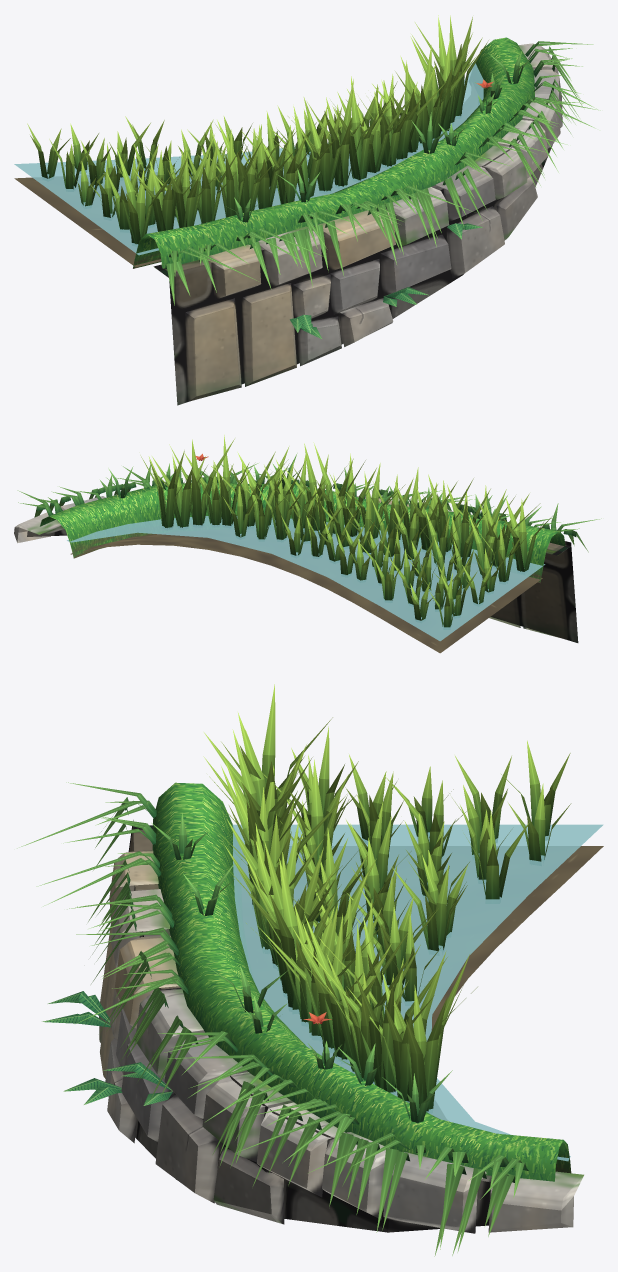
File: terrace_cap_young.glb
3 renders of one model, top to bottom at view 1: azimuth 30°, elevation 25°; view 2: azimuth 150°, elevation 25°; view 3: azimuth 270°, elevation 25°, orthographic. The views are drawn at different scales.
Parts seen in each view (by area): view 1: terrace_cap_young_plants, terrace_cap_young_wall, terrace_cap_young_dike, terrace_cap_young_water; view 2: terrace_cap_young_plants, terrace_cap_young_dike, terrace_cap_young_water, terrace_cap_young_wall; view 3: terrace_cap_young_plants, terrace_cap_young_wall, terrace_cap_young_dike, terrace_cap_young_water.
Boxes of the visible parts, x1,y1,x2,y2 form: terrace_cap_young_plants: [27, 15, 600, 338]; terrace_cap_young_wall: [153, 43, 562, 405]; terrace_cap_young_dike: [14, 37, 534, 268]; terrace_cap_young_water: [14, 63, 483, 255]; terrace_cap_young_plants: [17, 435, 601, 627]; terrace_cap_young_dike: [40, 482, 565, 653]; terrace_cap_young_water: [67, 516, 545, 641]; terrace_cap_young_wall: [14, 495, 578, 642]; terrace_cap_young_plants: [17, 684, 571, 1256]; terrace_cap_young_wall: [99, 820, 583, 1233]; terrace_cap_young_dike: [152, 782, 603, 1181]; terrace_cap_young_water: [232, 824, 603, 1161].
Size of the model in its own units: 5.46 by 1.93 by 3.22.
Materials: 4 (3 with a texture image).
